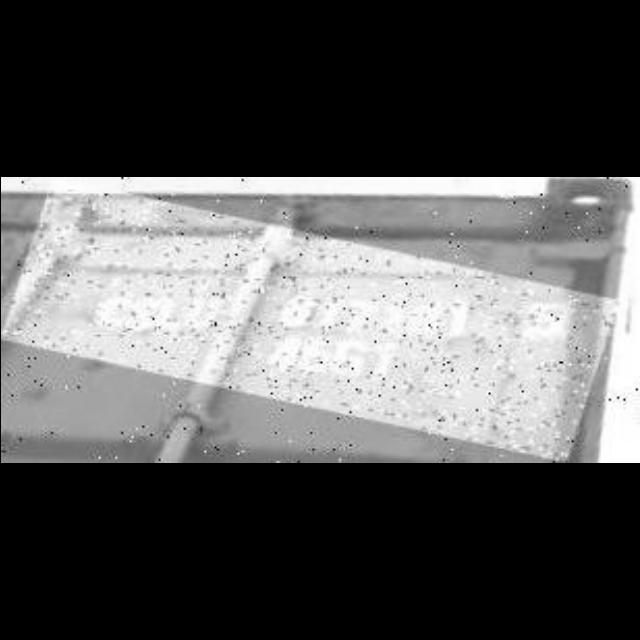1: (368, 340, 402, 384)
4: (262, 332, 300, 376)
5: (300, 332, 332, 378)
6: (332, 336, 366, 384)
8: (274, 290, 312, 334)
l: (154, 291, 183, 335)
s: (120, 296, 156, 334)
u: (184, 296, 223, 334)
